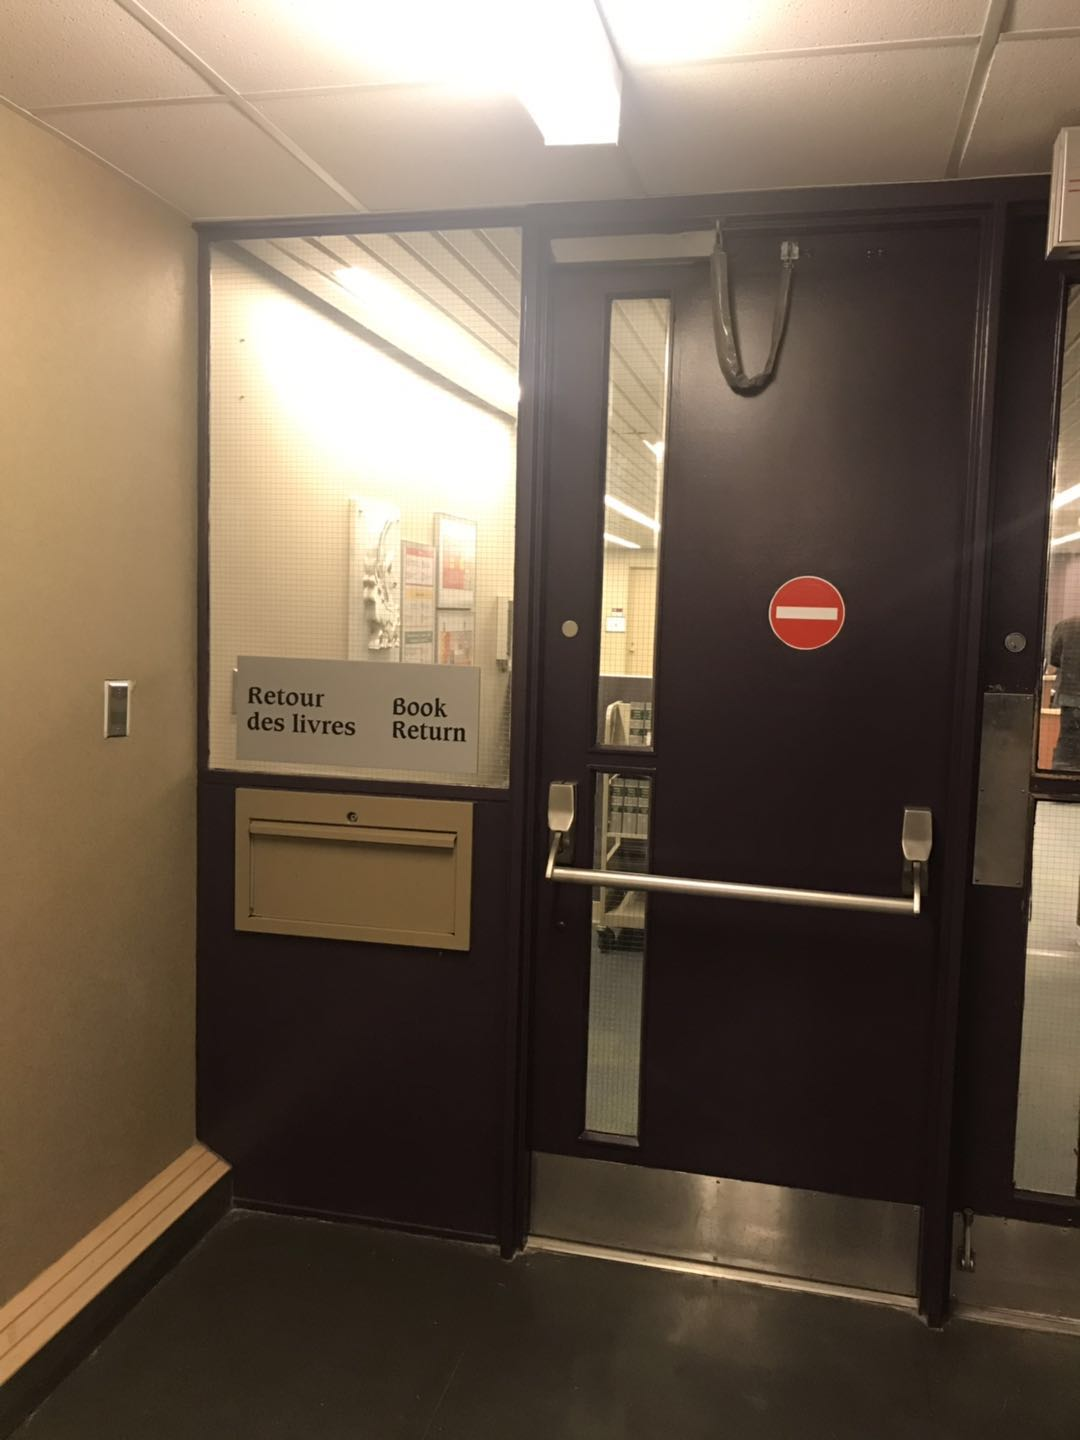door: (525, 207, 999, 1301)
sign: (234, 654, 480, 779), (771, 579, 842, 649)
